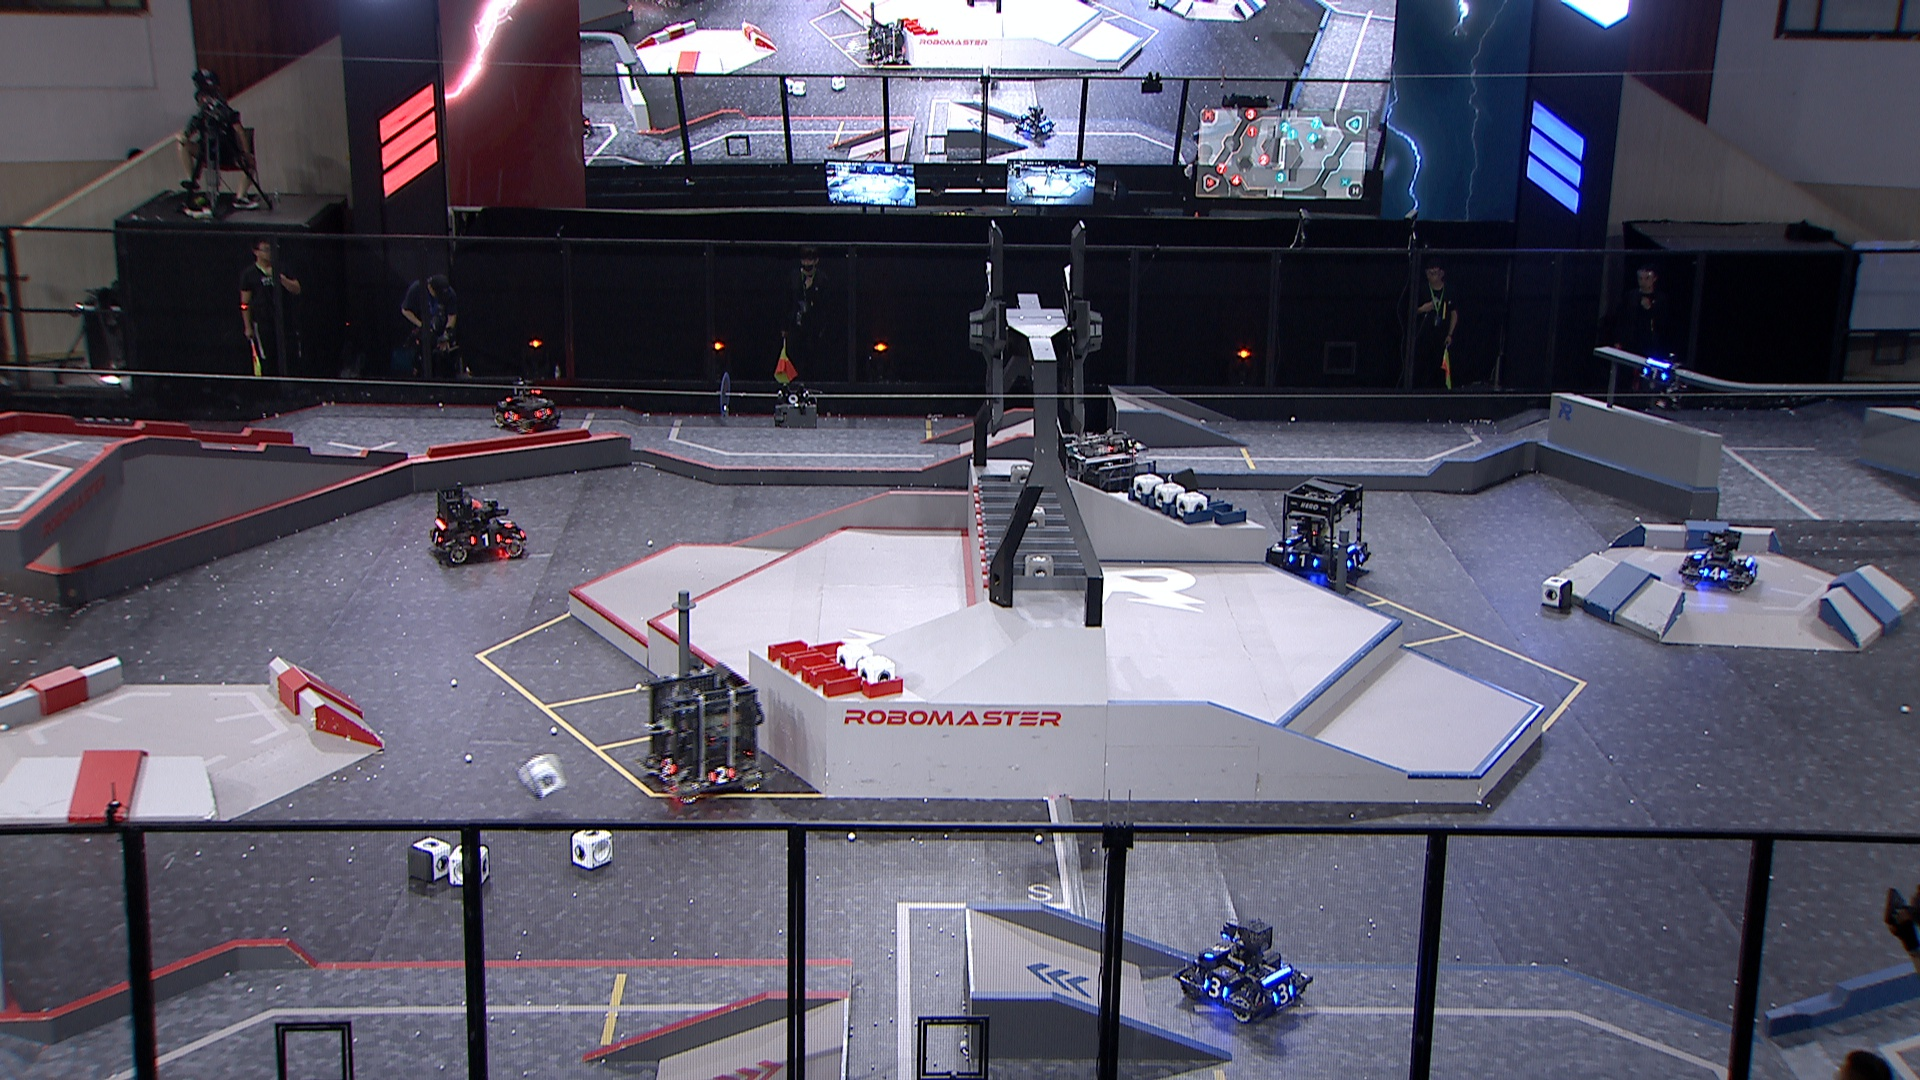armor: (1273, 981, 1295, 1007), (1200, 978, 1228, 1000), (468, 531, 501, 549), (708, 764, 737, 781), (1204, 940, 1229, 960), (1290, 553, 1319, 567), (657, 757, 676, 778), (1342, 549, 1365, 566), (1644, 365, 1667, 380), (1689, 546, 1712, 560), (1705, 564, 1726, 579), (501, 410, 518, 423), (429, 531, 442, 547), (534, 406, 551, 418), (1749, 562, 1760, 578), (496, 516, 512, 527)
car: (638, 659, 765, 806), (1179, 915, 1313, 1022), (1262, 469, 1373, 589), (1051, 419, 1163, 526), (425, 481, 527, 564), (1675, 524, 1766, 593), (491, 377, 567, 436)
ignore: (861, 18, 913, 73), (1013, 104, 1054, 140), (575, 113, 596, 142)
watcher: (1633, 345, 1683, 405)
